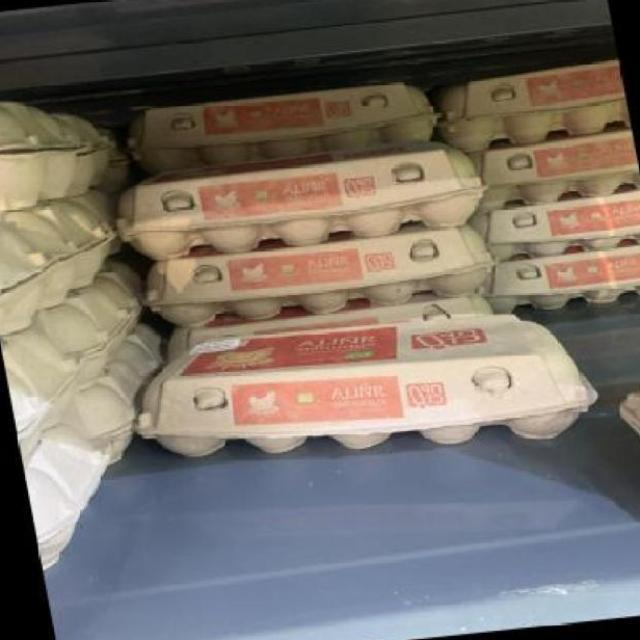Egg: (119, 301, 606, 475), (104, 135, 487, 264), (136, 223, 502, 334), (114, 76, 448, 175)
